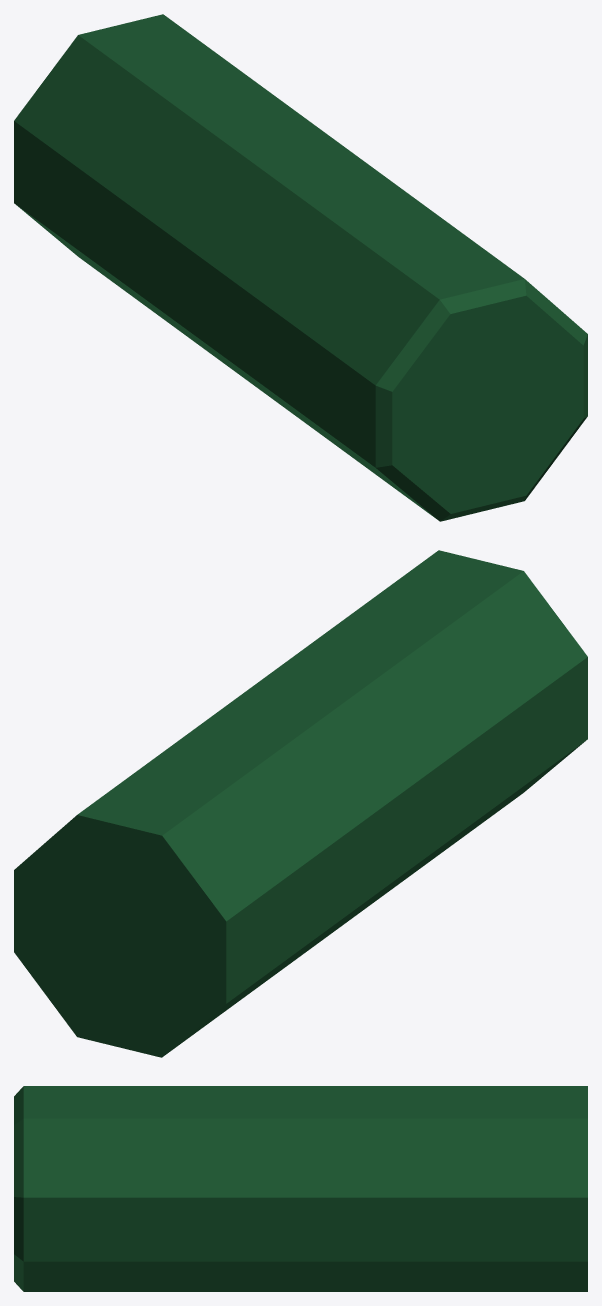
File: Octagon.fbx
3 renders of one model, top to bottom at view 1: azimuth 30°, elevation 25°; view 2: azimuth 150°, elevation 25°; view 3: azimuth 270°, elevation 25°, orthographic. The views are drawn at different scales.
Parts seen in each view (by area): view 1: Octagon; view 2: Octagon; view 3: Octagon.
Part boxes in pixels (bbox=[...]): Octagon: bbox=[14, 14, 587, 521]; Octagon: bbox=[14, 550, 587, 1057]; Octagon: bbox=[14, 1086, 587, 1291].
Bounding box in the file's own units: 100 × 100 × 300.
